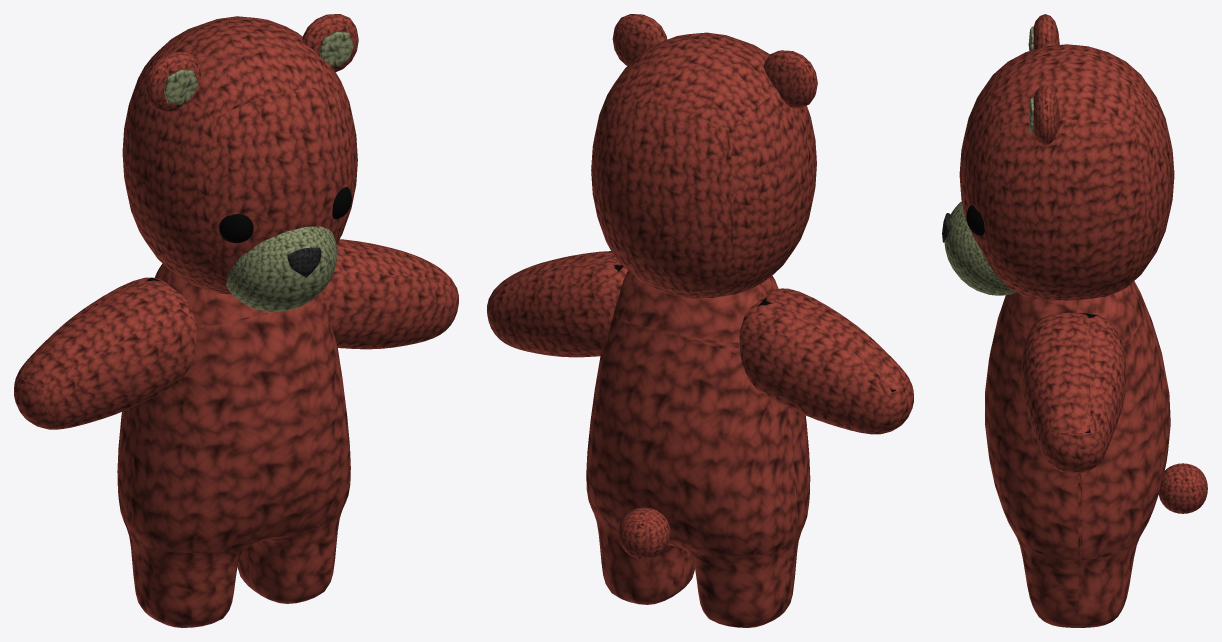
The model's file is OSITONaranja.glb.
3 renders of one model, left to right at view 1: azimuth 30°, elevation 25°; view 2: azimuth 150°, elevation 25°; view 3: azimuth 270°, elevation 25°, orthographic. The views are drawn at different scales.
Parts seen in each view (by area): view 1: body, head, arms, snoot, ears, in ears, eyes, nose; view 2: body, head, arms, ears, tail; view 3: head, body, arms, snoot, ears, tail, eyes.
Boxes of the visible parts, x1=… form: body: x1=117, y1=263, x2=350, y2=627; head: x1=122, y1=16, x2=357, y2=294; arms: x1=14, y1=239, x2=458, y2=429; snoot: x1=226, y1=226, x2=337, y2=311; ears: x1=145, y1=14, x2=358, y2=112; in ears: x1=164, y1=31, x2=353, y2=104; eyes: x1=219, y1=187, x2=351, y2=242; nose: x1=287, y1=247, x2=321, y2=277; body: x1=586, y1=271, x2=810, y2=627; head: x1=591, y1=32, x2=816, y2=298; arms: x1=487, y1=251, x2=913, y2=434; ears: x1=612, y1=14, x2=817, y2=108; tail: x1=618, y1=507, x2=670, y2=559; head: x1=959, y1=44, x2=1174, y2=300; body: x1=985, y1=281, x2=1170, y2=627; arms: x1=1021, y1=312, x2=1126, y2=473; snoot: x1=944, y1=201, x2=1015, y2=295; ears: x1=1033, y1=14, x2=1059, y2=145; tail: x1=1158, y1=463, x2=1207, y2=513; eyes: x1=966, y1=205, x2=984, y2=235.
Size of the model in its own units: 1.37 by 1.75 by 0.7789.
7 materials, 6 textured.
